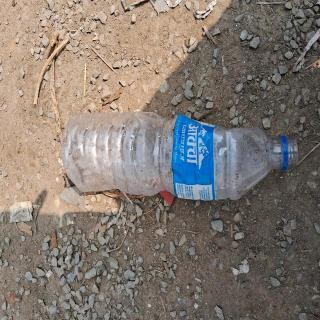Plastic-bottle: (56, 96, 305, 230)
